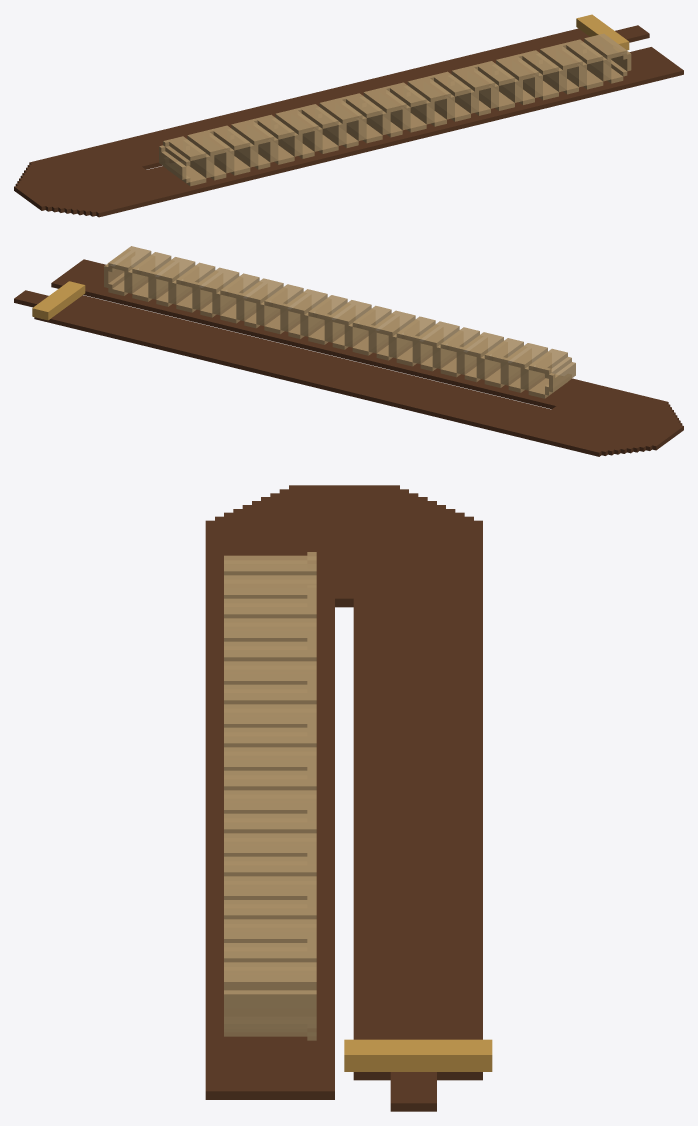
Rendered from bandolier_shotgun.glb.
3 views of the same model, one above another, from view 1: azimuth 30°, elevation 25°; view 2: azimuth 150°, elevation 25°; view 3: azimuth 270°, elevation 25° (orthographic). The views are drawn at different scales.
Visible parts, largest first — view 1: bandolier_shotgun:compound; view 2: bandolier_shotgun:compound; view 3: bandolier_shotgun:compound.
Part boxes in pixels (x1,y1,x2,y2): bandolier_shotgun:compound: [14, 14, 683, 217]; bandolier_shotgun:compound: [14, 246, 683, 456]; bandolier_shotgun:compound: [205, 485, 492, 1111].
Bounding box in the file's own units: 0.632 × 0.032 × 0.124.
